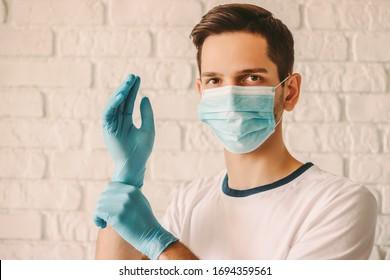gloves: (93, 182, 180, 259), (102, 74, 156, 189)
